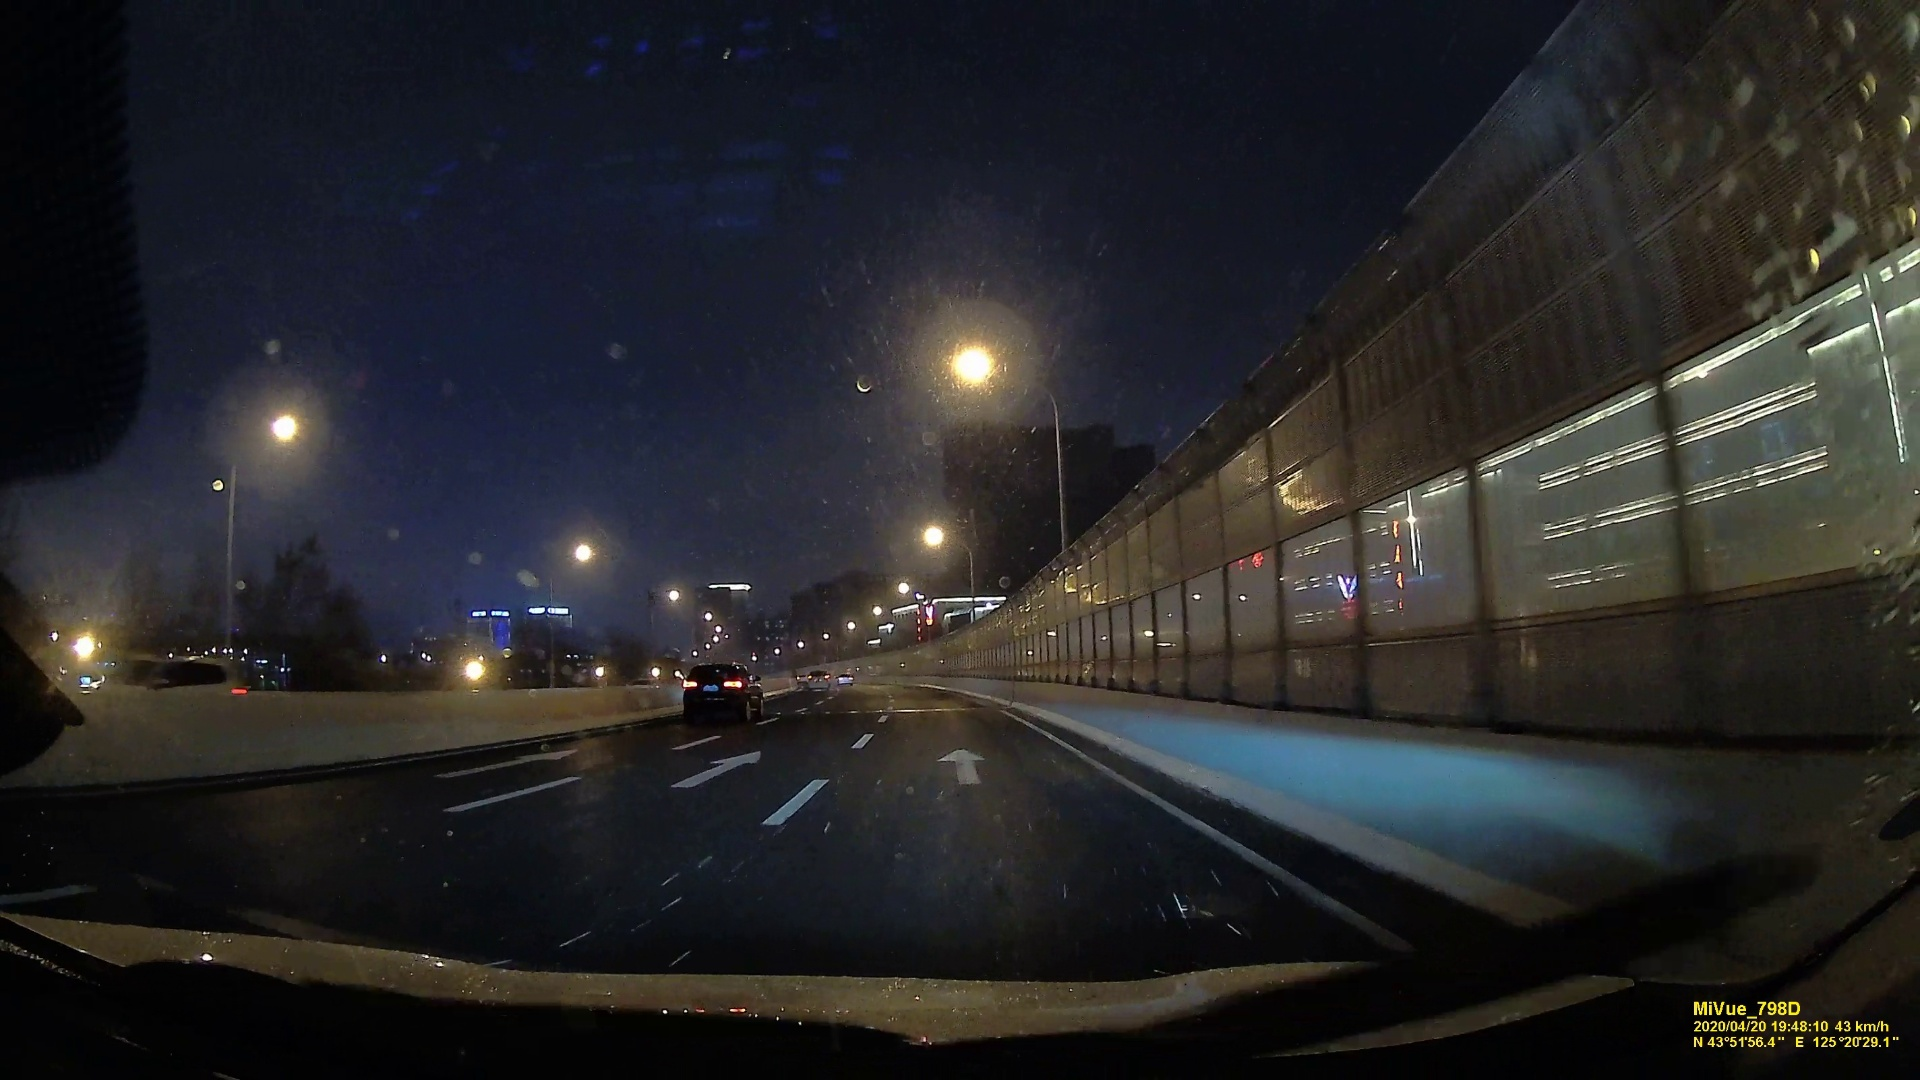vehicle: (680, 669, 761, 720)
